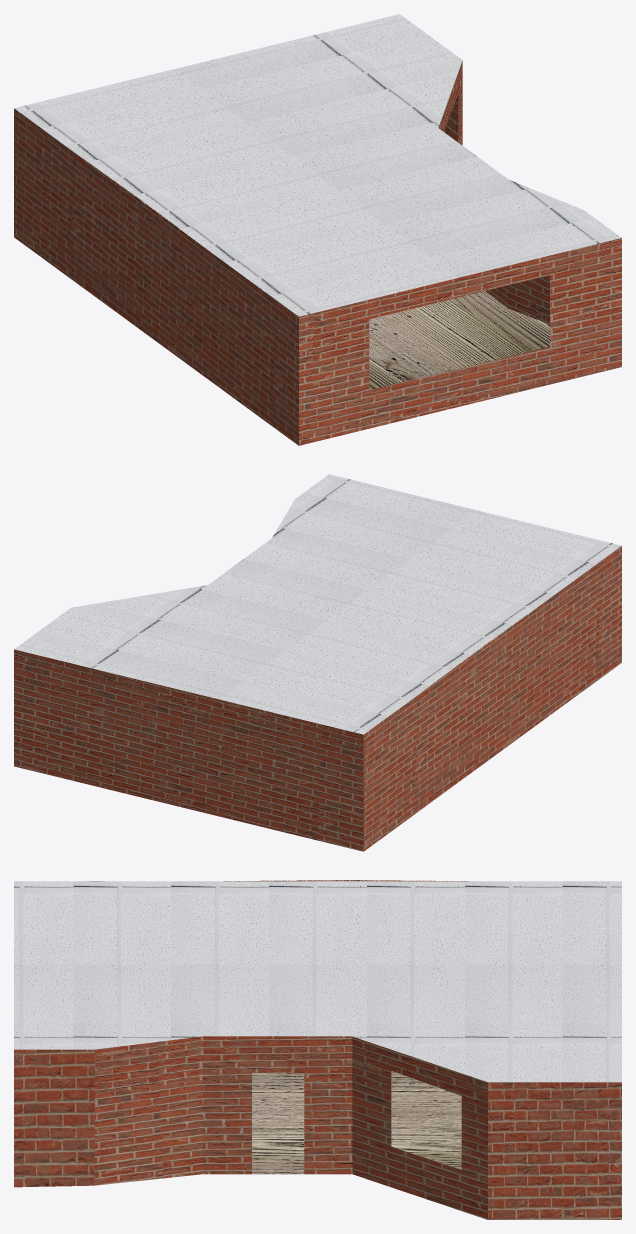
The model's file is office-3.glb.
The picture shows the model from 3 angles, top to bottom: view 1: azimuth 30°, elevation 25°; view 2: azimuth 150°, elevation 25°; view 3: azimuth 270°, elevation 25°; orthographic projection. The views are drawn at different scales.
Parts seen in each view (by area): view 1: Cube.001; view 2: Cube.001; view 3: Cube.001.
Part boxes in pixels (bbox=[...]): Cube.001: bbox=[14, 14, 621, 445]; Cube.001: bbox=[14, 474, 621, 851]; Cube.001: bbox=[14, 880, 621, 1219].
Size of the model in its own units: 12.98 by 4.19 by 16.61.
3 materials, 3 textured.
